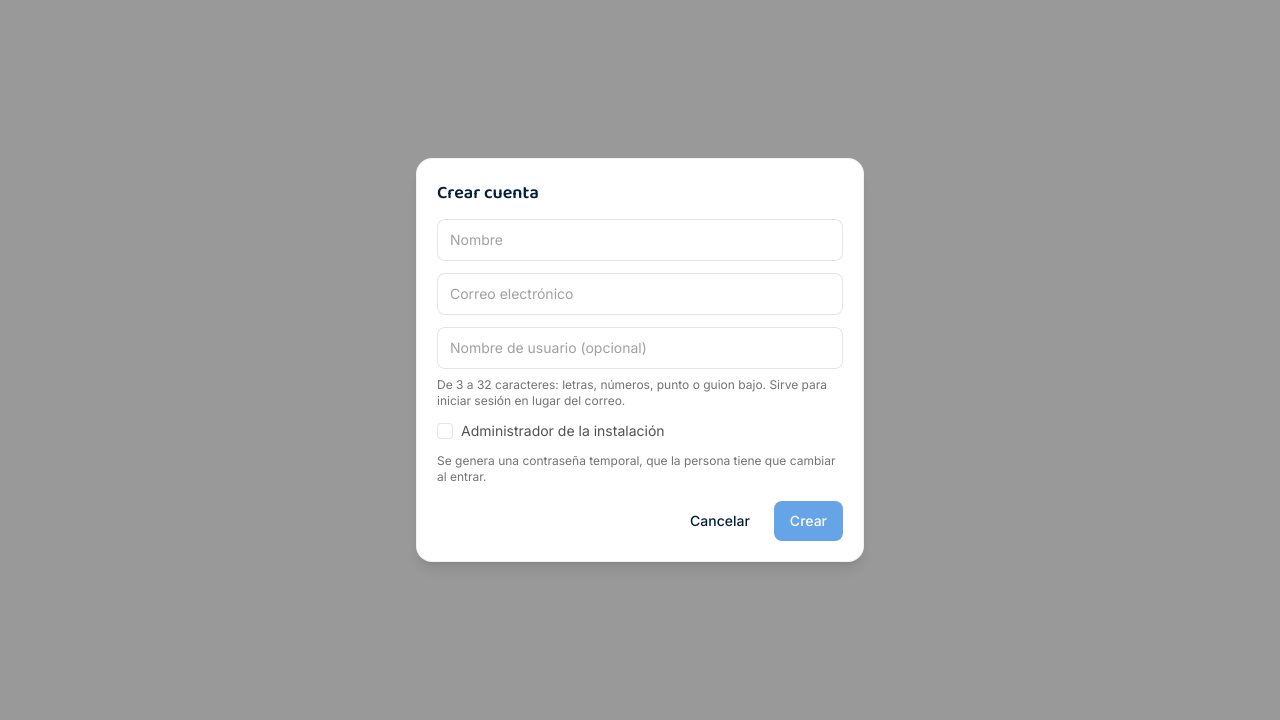
Test: AdminUserFormModal › keeps submit disabled until name and email are filled
Expected: the button "Crear" is disabled, left=774, top=501, right=843, bottom=541
Type "Ana" into the field labelled "Nombre" at (640, 240), box left=437, top=219, right=843, bottom=261
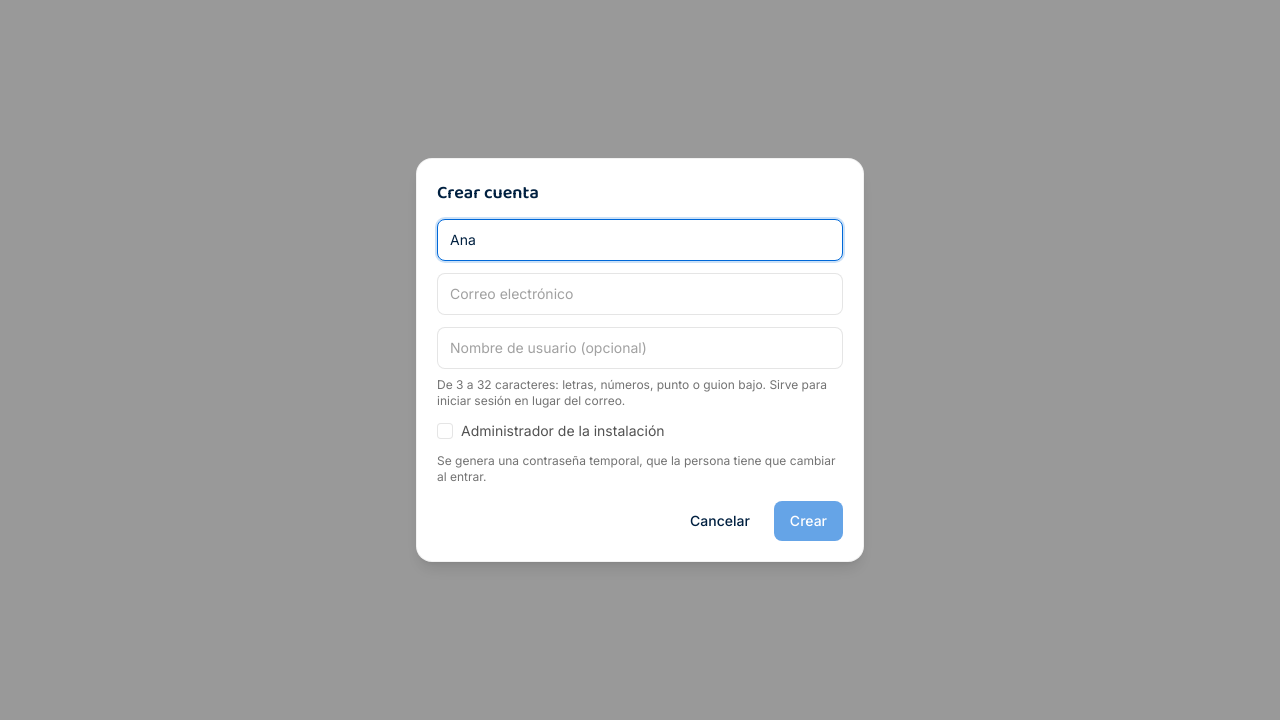
Expected: the button "Crear" is disabled, left=774, top=501, right=843, bottom=541
Type "ana@example.com" into the field labelled "Correo electrónico" at (640, 294), box left=437, top=273, right=843, bottom=315
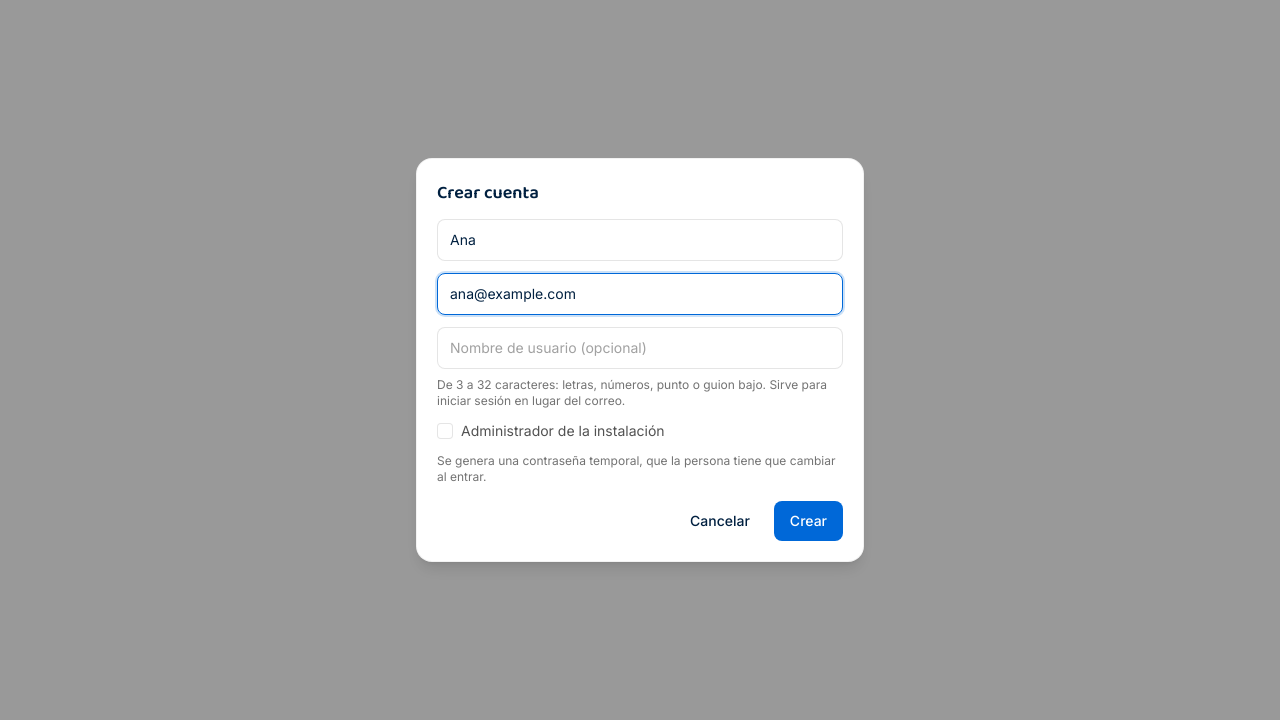
Expected: the text "Se genera una contraseña temporal" is shown, left=437, top=453, right=835, bottom=484
Expected: the button "Crear" is enabled, left=774, top=501, right=843, bottom=541
